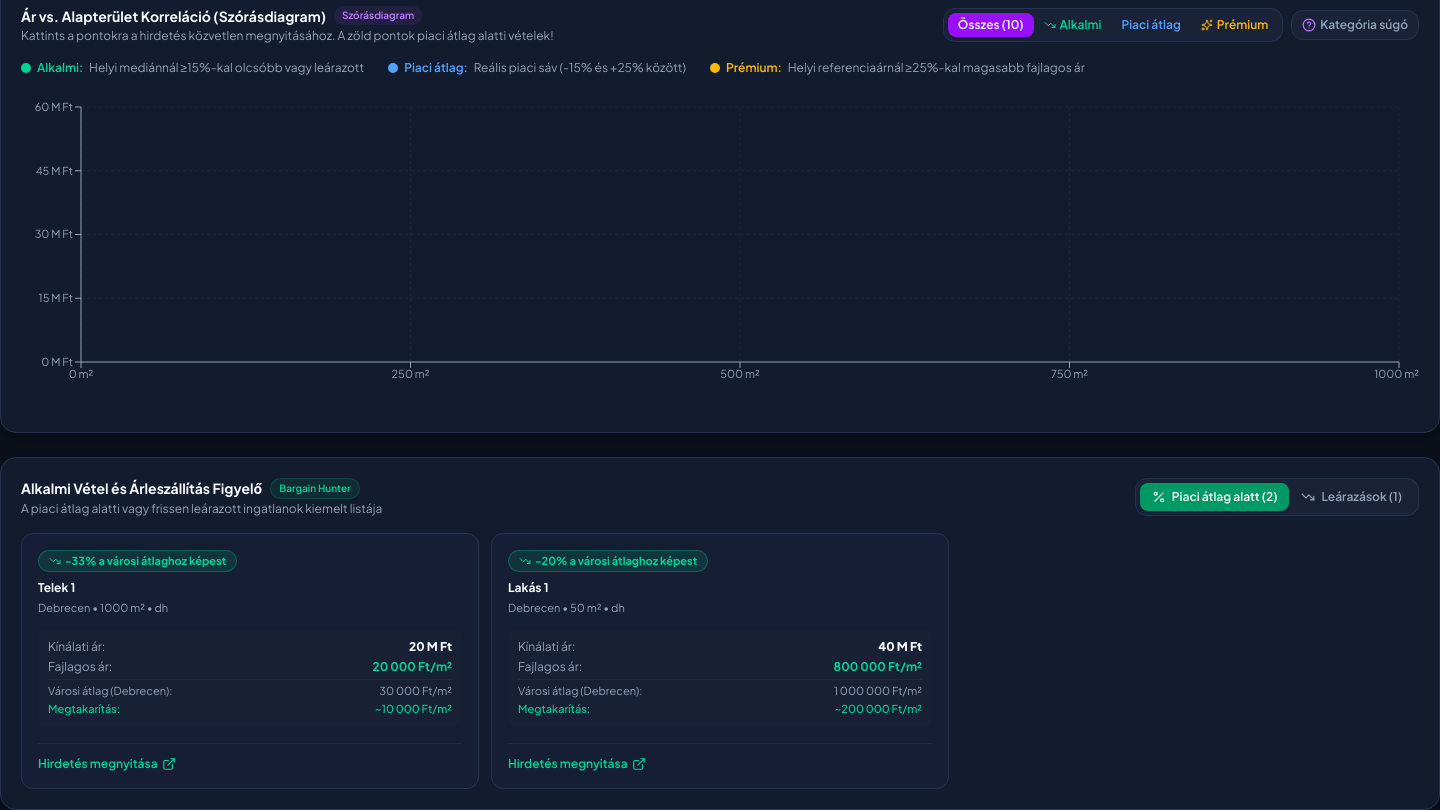
it: MarketAnalyticsPanel component (#263 & #264) › switches tabs in BargainHunterTable between below market and price drops and toggles distribution metric
This screenshot has width=1440, height=810.
(page scrolled)
Click the button "Leárazások (1)" at [1352, 497], box x1=1289 y1=483 x2=1414 y2=511
(page scrolled)
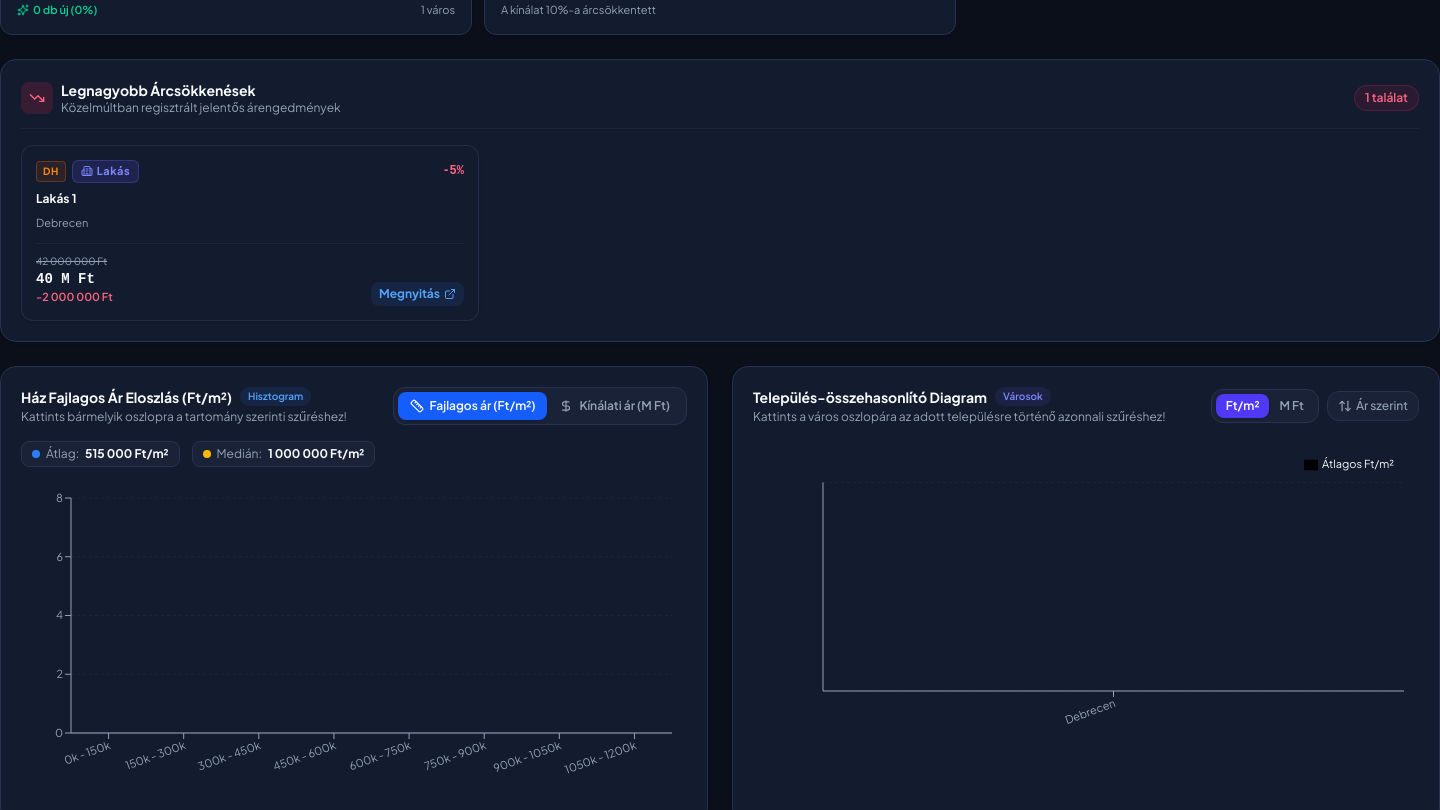
Click the button "Kínálati ár (M Ft)" at [615, 406], box x1=547 y1=392 x2=682 y2=420
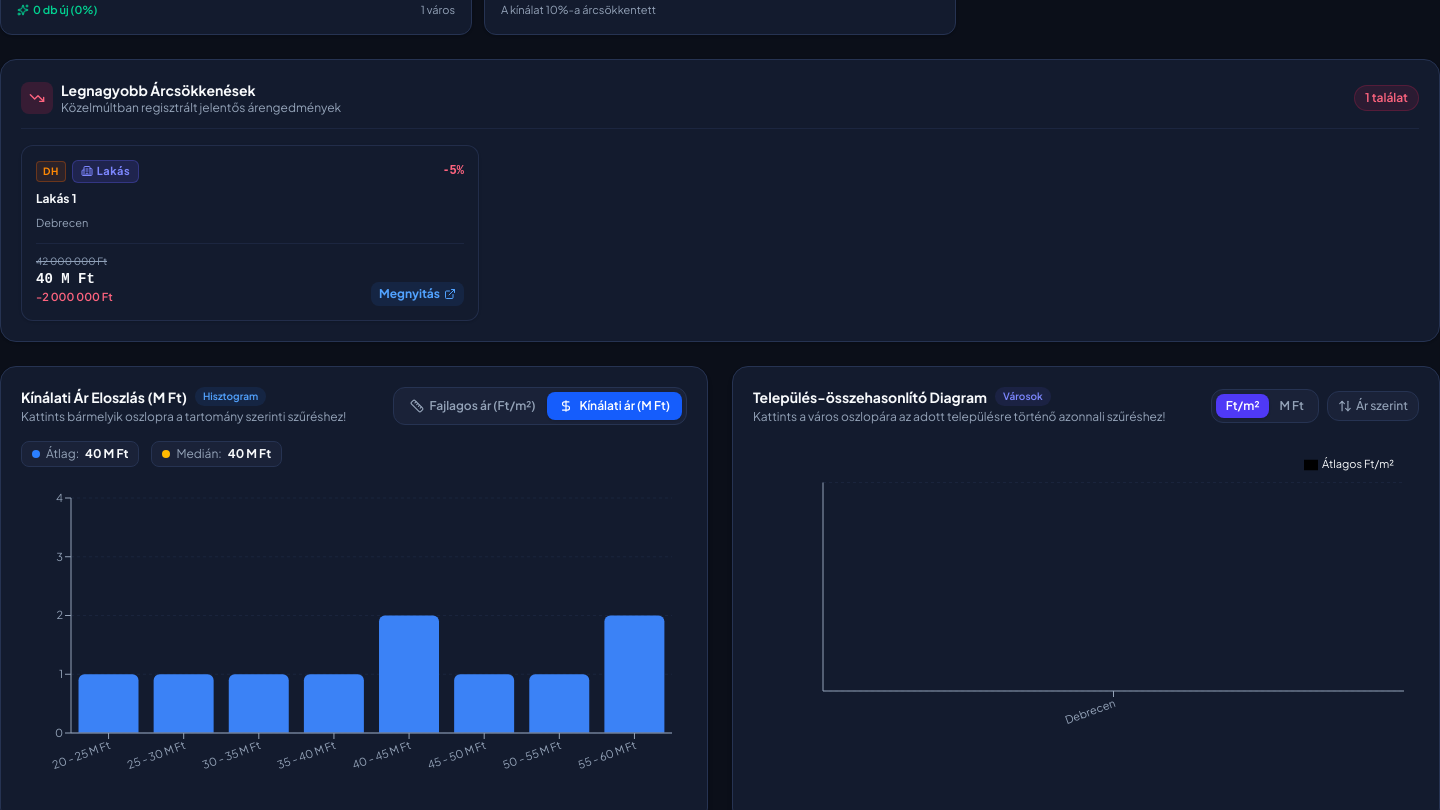
Expected: the heading "Kínálati Ár Eloszlás (M Ft)" is shown, x1=21 y1=386 x2=187 y2=406
